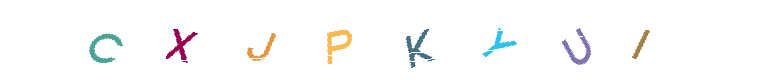C: (140, 0, 220, 80)
I: (587, 0, 667, 80)
J: (272, 0, 352, 80)
K: (341, 0, 421, 80)
P: (327, 0, 407, 80)
U: (466, 0, 546, 80)
X: (220, 0, 300, 80)
Y: (459, 0, 539, 80)
